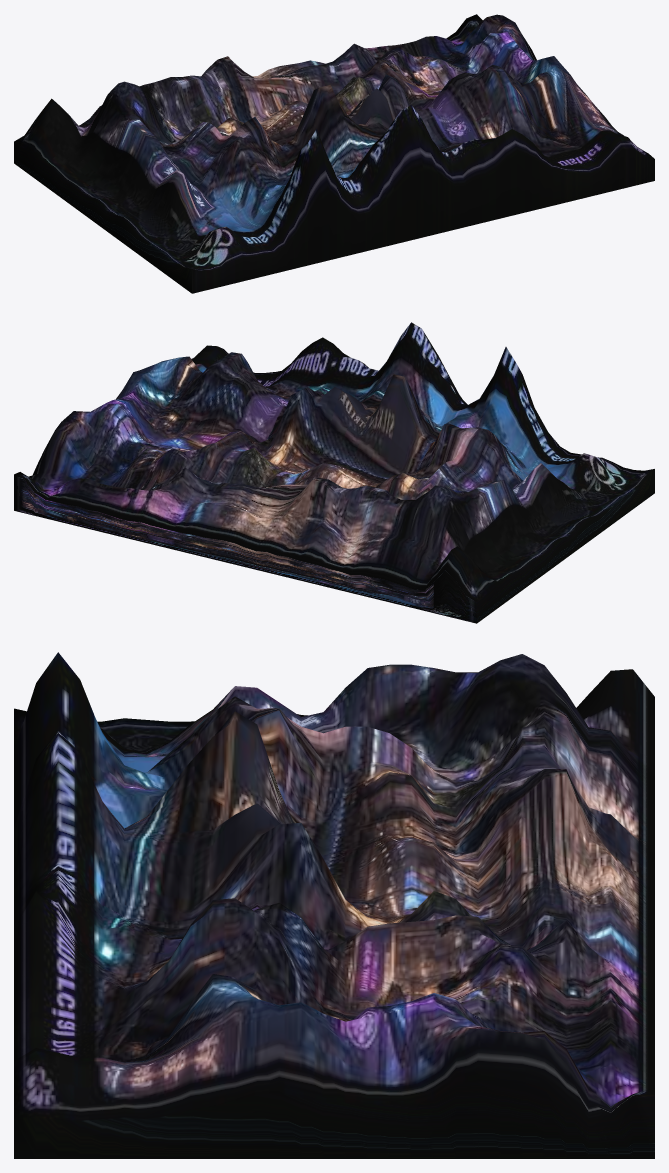
Rendered from BUSINESS_01_Shop.glb.
3 renders of one model, top to bottom at view 1: azimuth 30°, elevation 25°; view 2: azimuth 150°, elevation 25°; view 3: azimuth 270°, elevation 25°, orthographic. The views are drawn at different scales.
Visible parts, largest first — view 1: BUSINESS_01_Shop; view 2: BUSINESS_01_Shop; view 3: BUSINESS_01_Shop.
Boxes of the visible parts, bbox=[...] form: BUSINESS_01_Shop: bbox=[14, 14, 654, 293]; BUSINESS_01_Shop: bbox=[14, 322, 654, 623]; BUSINESS_01_Shop: bbox=[14, 652, 654, 1158].
Bounding box in the file's own units: 2 × 0.51 × 1.33.
1 material, 1 textured.
